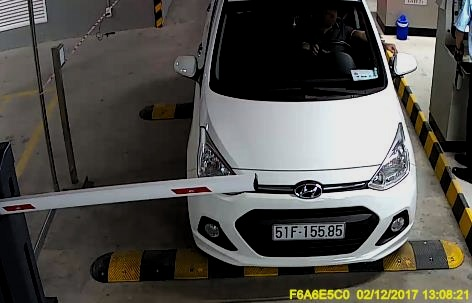plate: (269, 216, 345, 243)
